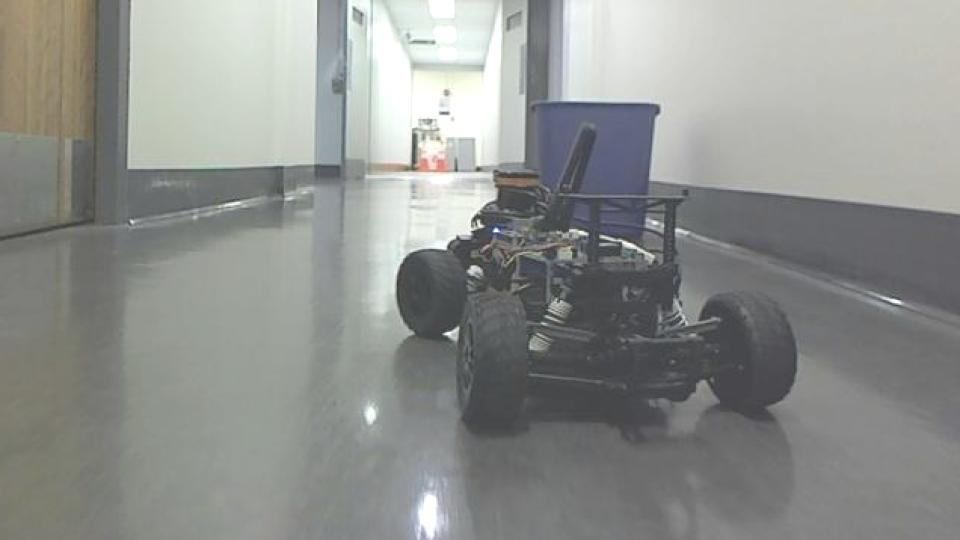car: (394, 113, 801, 438)
